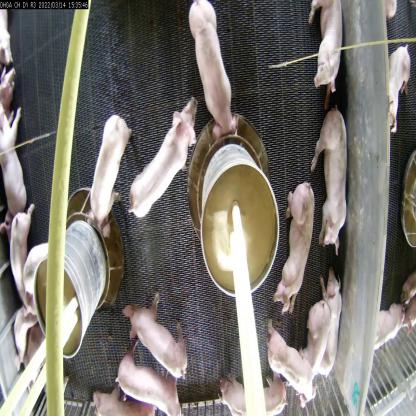Pig: (302, 108, 360, 245), (134, 92, 193, 221), (182, 4, 237, 133), (124, 294, 200, 375), (81, 116, 132, 228), (306, 0, 357, 96), (262, 320, 314, 411), (117, 339, 177, 415), (0, 90, 31, 217), (282, 186, 312, 314), (4, 198, 36, 301), (213, 370, 283, 415), (387, 37, 411, 146), (89, 376, 152, 415), (323, 265, 343, 383), (306, 304, 334, 387)
